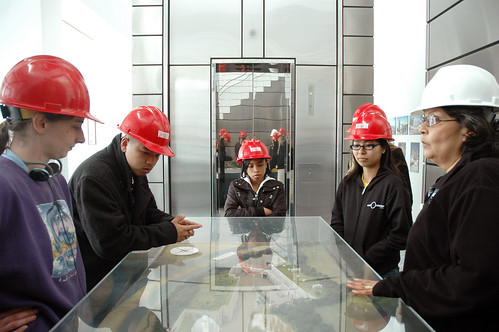person hardhat: (1, 52, 90, 324), (410, 60, 498, 332), (87, 108, 192, 258), (343, 113, 401, 268), (233, 140, 296, 217)
